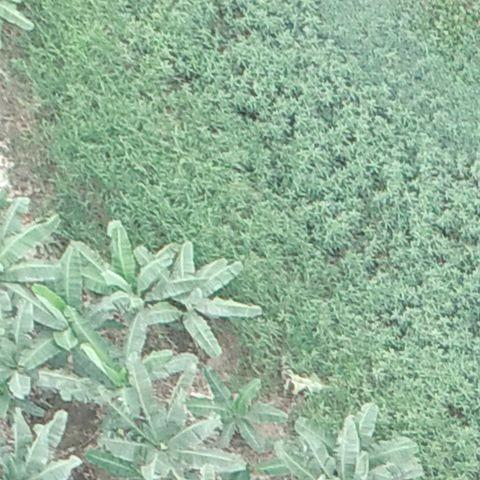Banana-plant: (106, 366, 239, 476), (150, 236, 260, 353), (22, 246, 120, 373), (83, 228, 190, 329), (80, 322, 190, 406), (187, 373, 279, 448)
